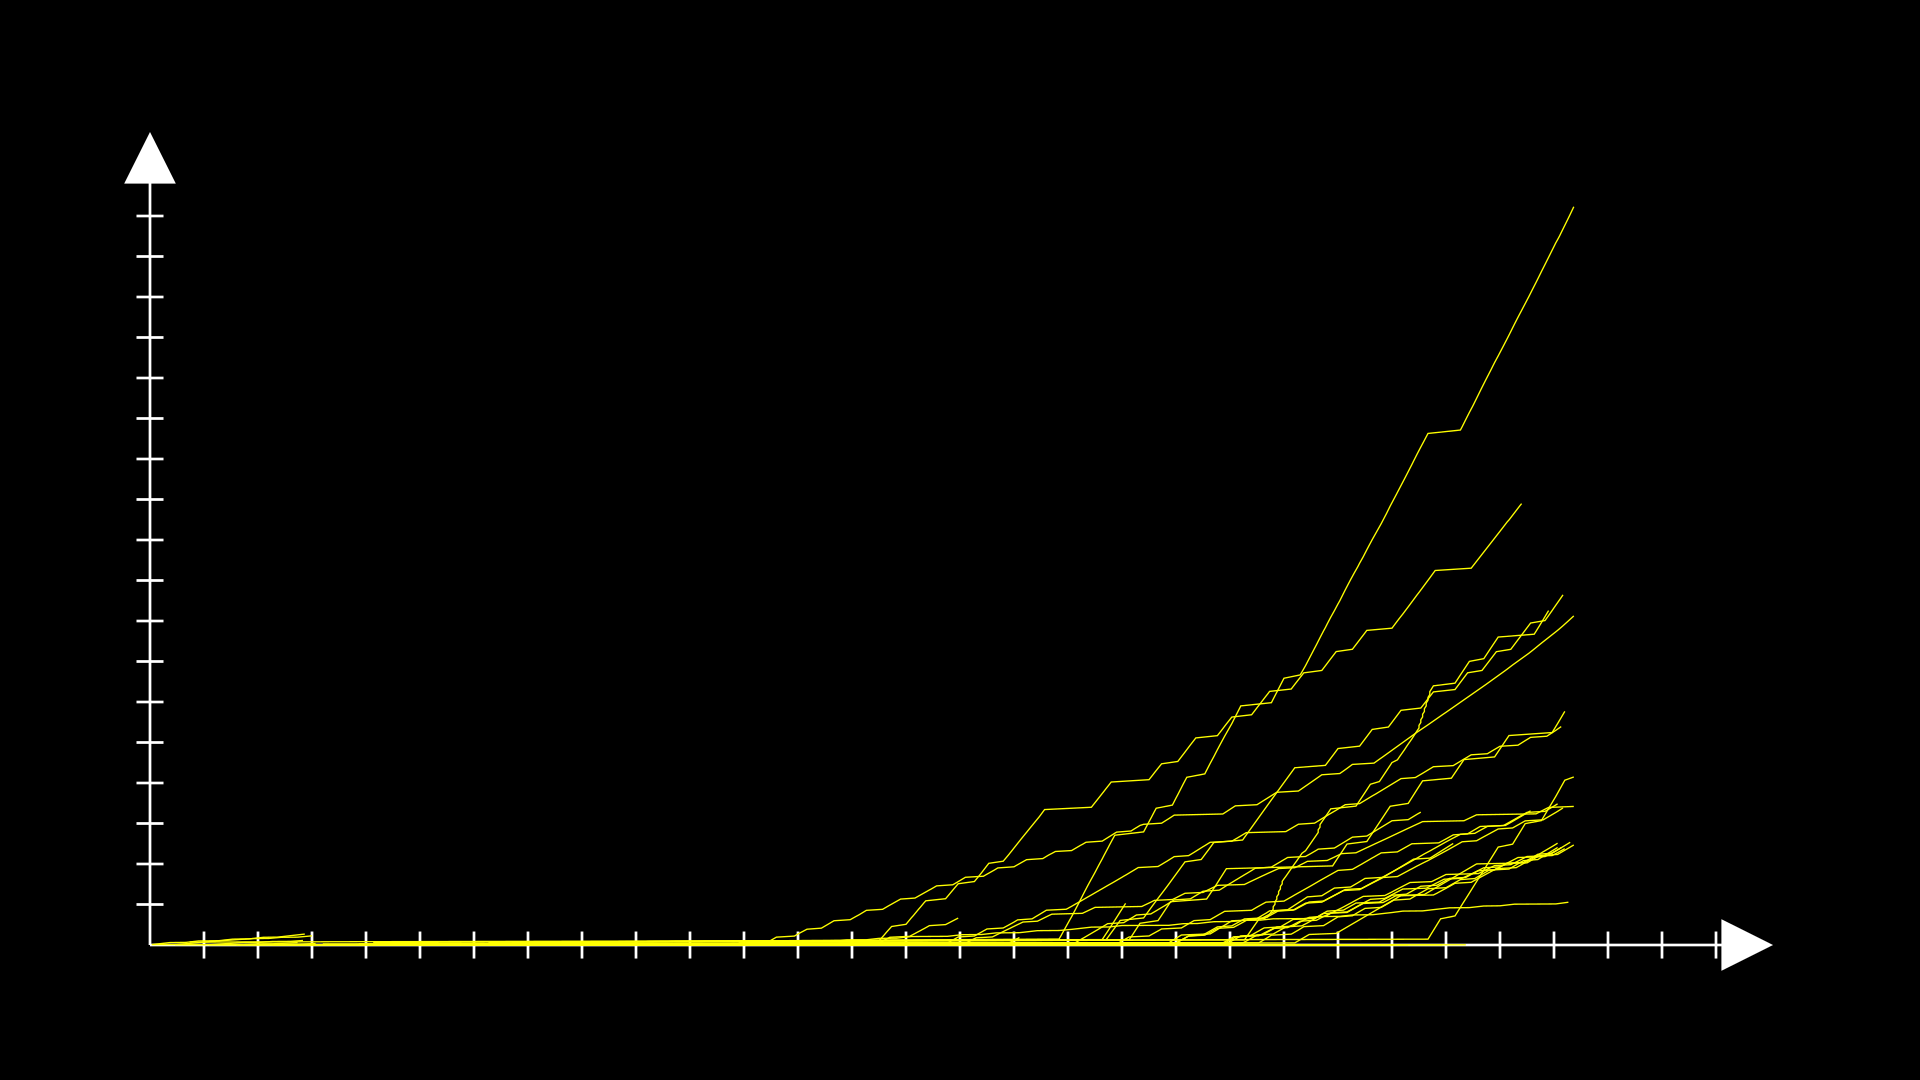

The page's visual inventory and layout, read from the dashboard file:
{"tool":"tableau","page":{"name":"Dashboard 1","canvas":[1000,800],"ordinal":0},"visuals":[{"type":"worksheet","title":"Blatt 1","mark":"Automatic","rows":["Item"],"box":[8,8,984,784]}]}

Visuals, with their boxes on the page's 1000x800 design canvas (x1, y1, x2, y2). These are canvas units, not pixel positions in the 1920x1080 screenshot, which may show the page scaled, cropped or inside an application window:
"Blatt 1" worksheet: region(8, 8, 992, 792)
